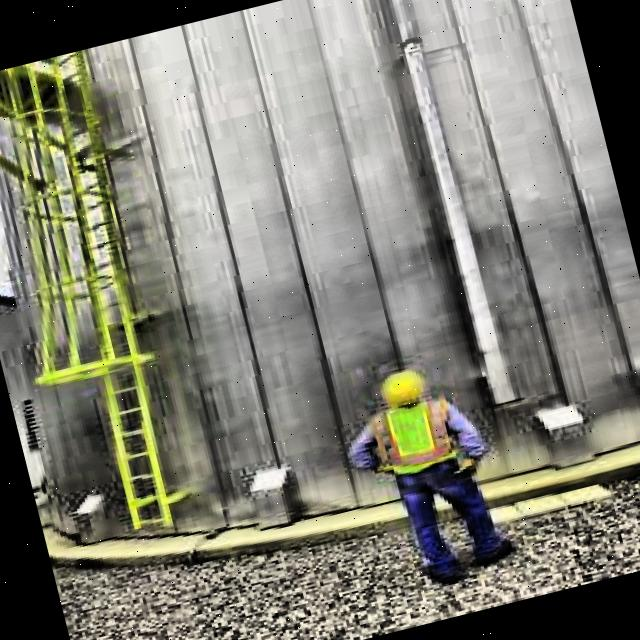helmet: (374, 366, 438, 425)
